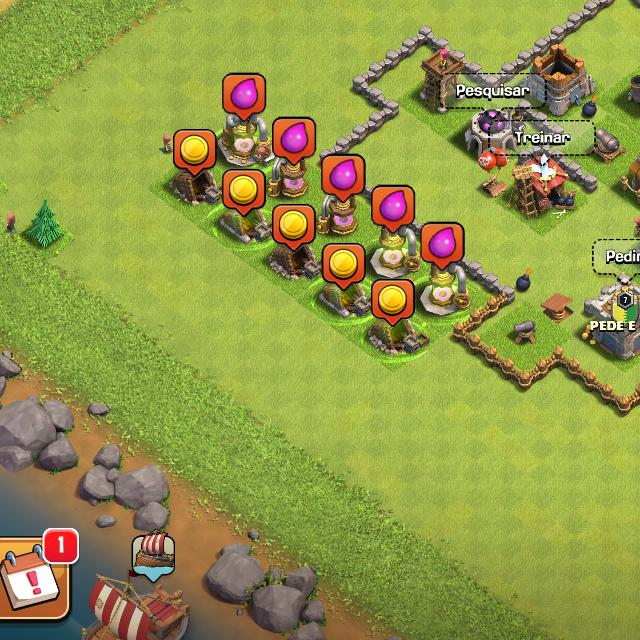Arqueira: (421, 46, 466, 113)
Canhao: (591, 124, 626, 166), (511, 316, 538, 347)
FullCoin: (175, 129, 216, 178), (225, 169, 266, 216), (374, 278, 414, 326), (324, 243, 364, 289), (275, 205, 314, 251)
FullElixir: (222, 72, 266, 121), (374, 184, 417, 234), (274, 118, 316, 166), (323, 153, 365, 201), (422, 224, 465, 269)
